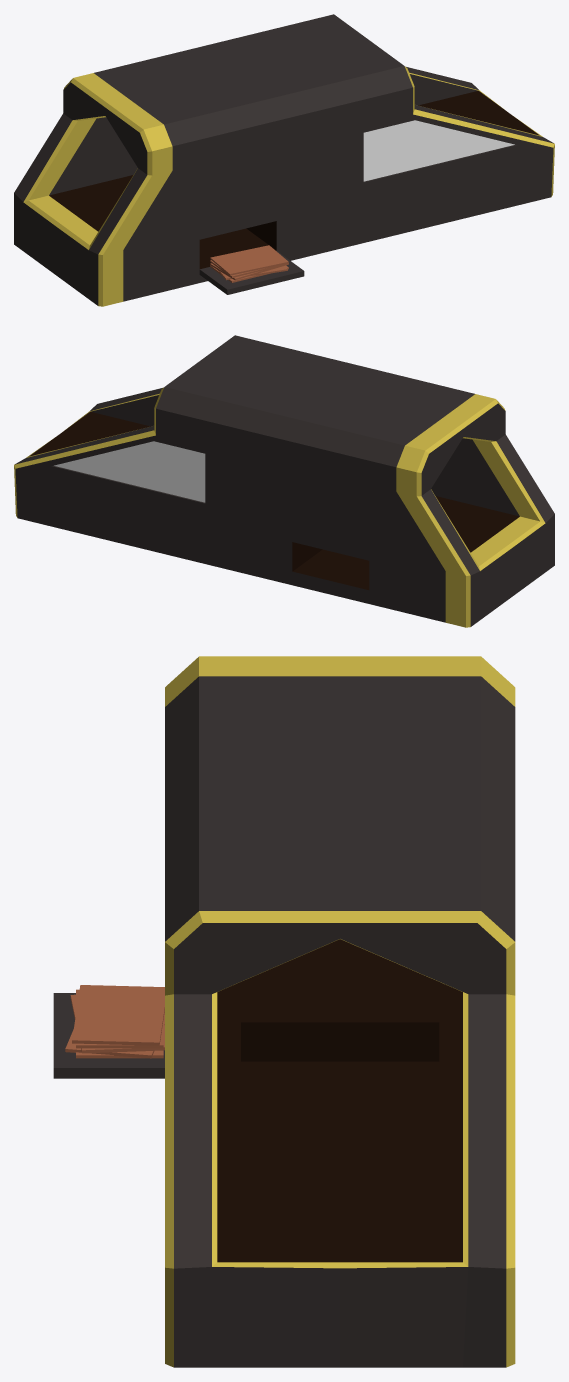
Rendered from Emballeuse.fbx.
3 views of the same model, one above another, from view 1: azimuth 30°, elevation 25°; view 2: azimuth 150°, elevation 25°; view 3: azimuth 270°, elevation 25° (orthographic). The views are drawn at different scales.
Parts seen in each view (by area): view 1: Emballeuse, BoitesVides; view 2: Emballeuse; view 3: Emballeuse, BoitesVides.
Boxes of the visible parts, x1,y1,x2,y2 form: Emballeuse: (14,14,554,306); BoitesVides: (210,245,288,282); Emballeuse: (14,335,554,627); Emballeuse: (53,656,515,1367); BoitesVides: (65,985,164,1058).
Bounding box in the file's own units: 603 × 200 × 264.
